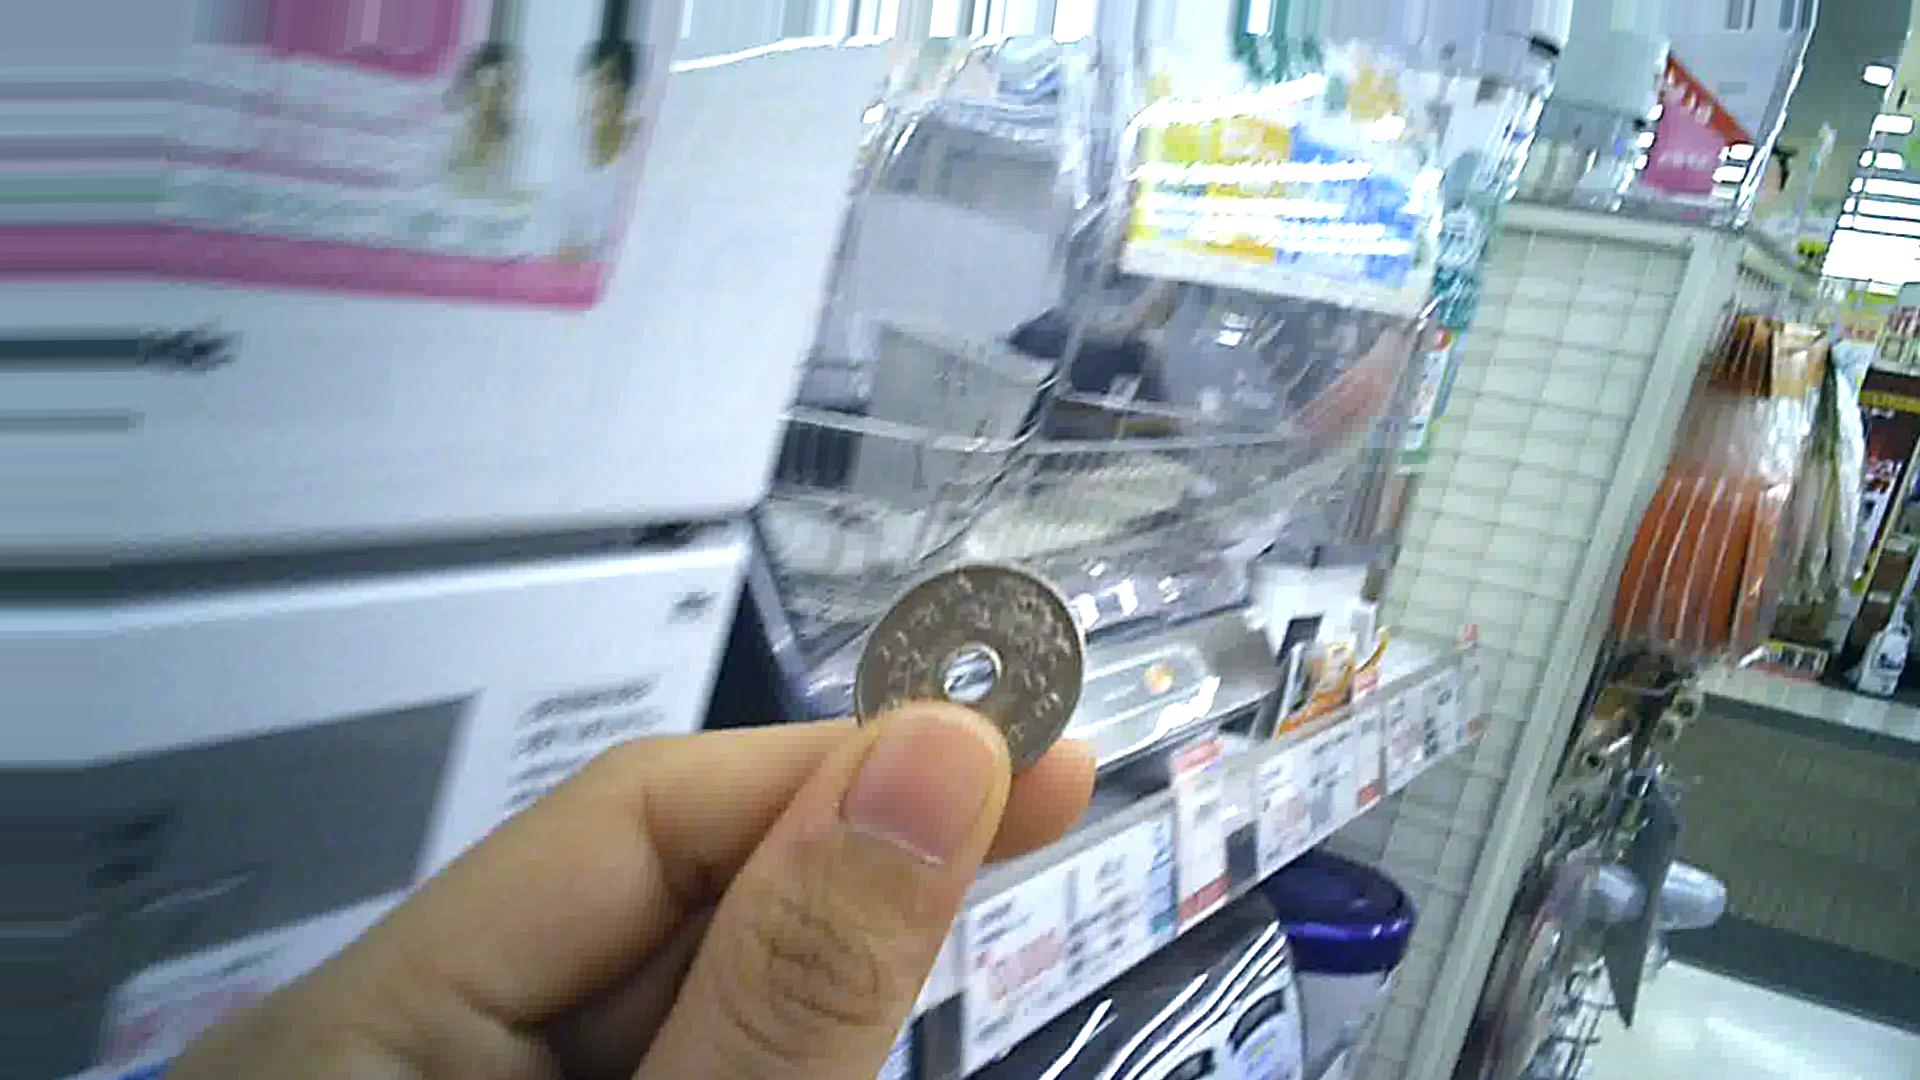50 Yen: (825, 550, 1095, 794)
